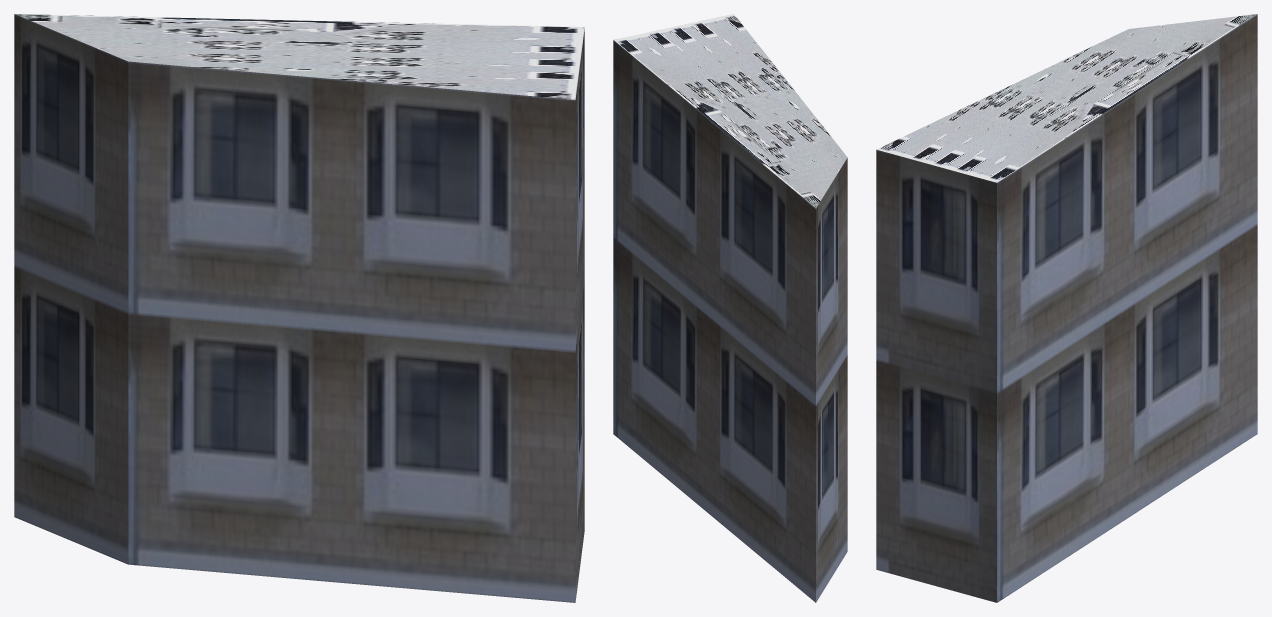
Rendered from ResTex__234.fbx.
3 renders of one model, left to right at view 1: azimuth 30°, elevation 25°; view 2: azimuth 150°, elevation 25°; view 3: azimuth 270°, elevation 25°, orthographic. The views are drawn at different scales.
Visible parts, largest first — view 1: CityEngineMaterial_3_m, CityEngineMaterial_4_m; view 2: CityEngineMaterial_3_m, CityEngineMaterial_4_m; view 3: CityEngineMaterial_3_m, CityEngineMaterial_4_m.
Part boxes in pixels (x1,y1,x2,y2): CityEngineMaterial_3_m: [14, 14, 584, 602]; CityEngineMaterial_4_m: [15, 14, 584, 99]; CityEngineMaterial_3_m: [613, 40, 847, 602]; CityEngineMaterial_4_m: [614, 14, 847, 208]; CityEngineMaterial_3_m: [876, 14, 1257, 602]; CityEngineMaterial_4_m: [877, 14, 1256, 182].
Bounding box in the file's own units: 5.17 × 6 × 4.94.
2 materials, 2 textured.
